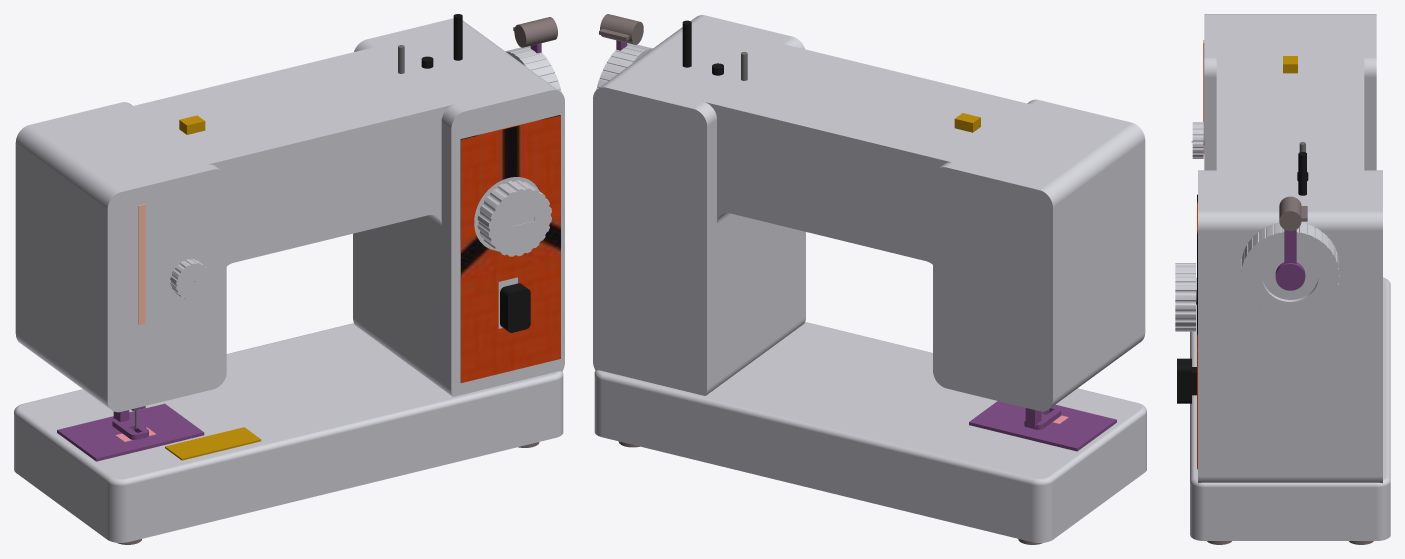
Rendered from sewing_machine__0008.glb.
The picture shows the model from 3 angles, left to right: view 1: azimuth 30°, elevation 25°; view 2: azimuth 150°, elevation 25°; view 3: azimuth 270°, elevation 25°; orthographic projection. The views are drawn at different scales.
Parts seen in each view (by area): view 1: chassis::body_shell, chassis::bed_shell, chassis::front_art_panel, stitch_dial::stitch_dial_cap, chassis::needle_plate, chassis::bobbin_cover, reverse_lever::reverse_lever_paddle, tension_dial::tension_dial_cap, crank_grip::grip_barrel, chassis::takeup_slot, handwheel::handwheel_cap; view 2: chassis::body_shell, chassis::bed_shell, chassis::needle_plate, handwheel::handwheel_cap, crank_grip::grip_barrel; view 3: chassis::body_shell, chassis::bed_shell, handwheel::handwheel_cap, stitch_dial::stitch_dial_cap, crank_arm::crank_hub, crank_grip::grip_barrel, reverse_lever::reverse_lever_paddle, tension_dial::tension_dial_cap, crank_arm::crank_bar, chassis::spool_pin, chassis::front_art_panel.
Part boxes in pixels (x1=…): chassis::body_shell: x1=15, y1=18, x2=564, y2=412; chassis::bed_shell: x1=14, y1=323, x2=563, y2=542; chassis::front_art_panel: x1=460, y1=115, x2=560, y2=382; stitch_dial::stitch_dial_cap: x1=477, y1=180, x2=551, y2=256; chassis::needle_plate: x1=57, y1=403, x2=204, y2=461; chassis::bobbin_cover: x1=165, y1=427, x2=261, y2=460; reverse_lever::reverse_lever_paddle: x1=500, y1=283, x2=530, y2=332; tension_dial::tension_dial_cap: x1=170, y1=259, x2=209, y2=299; crank_grip::grip_barrel: x1=514, y1=17, x2=557, y2=47; chassis::takeup_slot: x1=138, y1=204, x2=145, y2=324; handwheel::handwheel_cap: x1=505, y1=46, x2=561, y2=92; chassis::body_shell: x1=593, y1=15, x2=1145, y2=411; chassis::bed_shell: x1=594, y1=322, x2=1146, y2=542; chassis::needle_plate: x1=969, y1=401, x2=1116, y2=451; handwheel::handwheel_cap: x1=596, y1=43, x2=652, y2=89; crank_grip::grip_barrel: x1=600, y1=14, x2=643, y2=44; chassis::body_shell: x1=1198, y1=14, x2=1382, y2=483; chassis::bed_shell: x1=1190, y1=277, x2=1390, y2=540; handwheel::handwheel_cap: x1=1241, y1=222, x2=1339, y2=320; stitch_dial::stitch_dial_cap: x1=1175, y1=263, x2=1195, y2=331; crank_arm::crank_hub: x1=1275, y1=262, x2=1305, y2=290; crank_grip::grip_barrel: x1=1279, y1=196, x2=1301, y2=231; reverse_lever::reverse_lever_paddle: x1=1177, y1=358, x2=1191, y2=403; tension_dial::tension_dial_cap: x1=1191, y1=122, x2=1203, y2=158; crank_arm::crank_bar: x1=1284, y1=229, x2=1296, y2=263; chassis::spool_pin: x1=1298, y1=152, x2=1306, y2=195; chassis::front_art_panel: x1=1197, y1=194, x2=1197, y2=469.
Bounding box in the file's own units: 0.432 × 0.336 × 0.1751.
9 materials, 3 textured.
